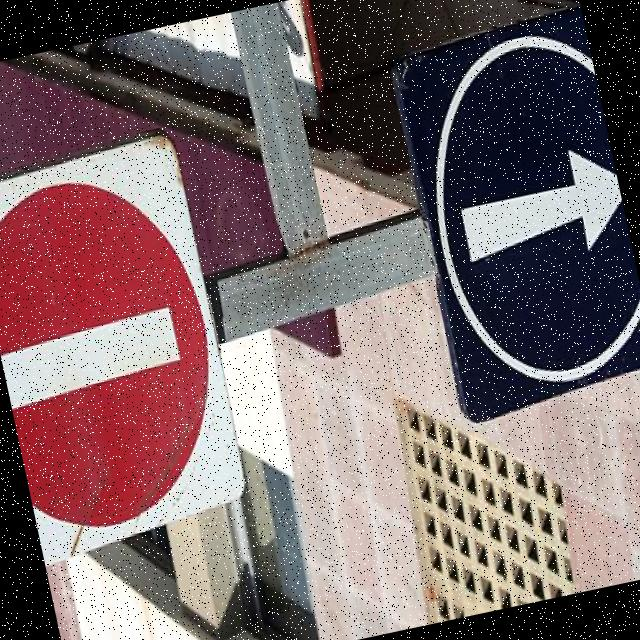do_not_enter: (0, 154, 246, 545)
